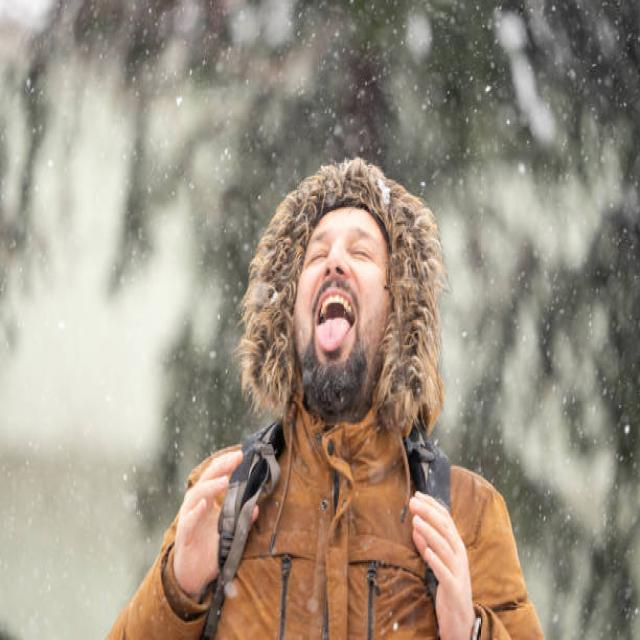tongue: (315, 316, 353, 354)
